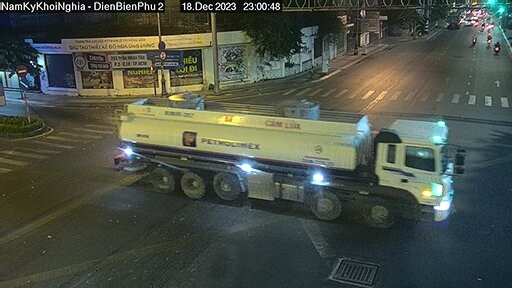motorbike: (484, 33, 496, 45), (470, 31, 480, 44), (494, 39, 502, 52)
truck: (112, 87, 464, 232)
